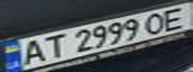2: (69, 26, 93, 54)
9: (90, 22, 112, 51), (121, 16, 145, 42), (106, 19, 127, 46)
A: (12, 37, 51, 67)
E: (154, 4, 193, 33)
O: (139, 10, 175, 36)
T: (36, 33, 69, 61)
